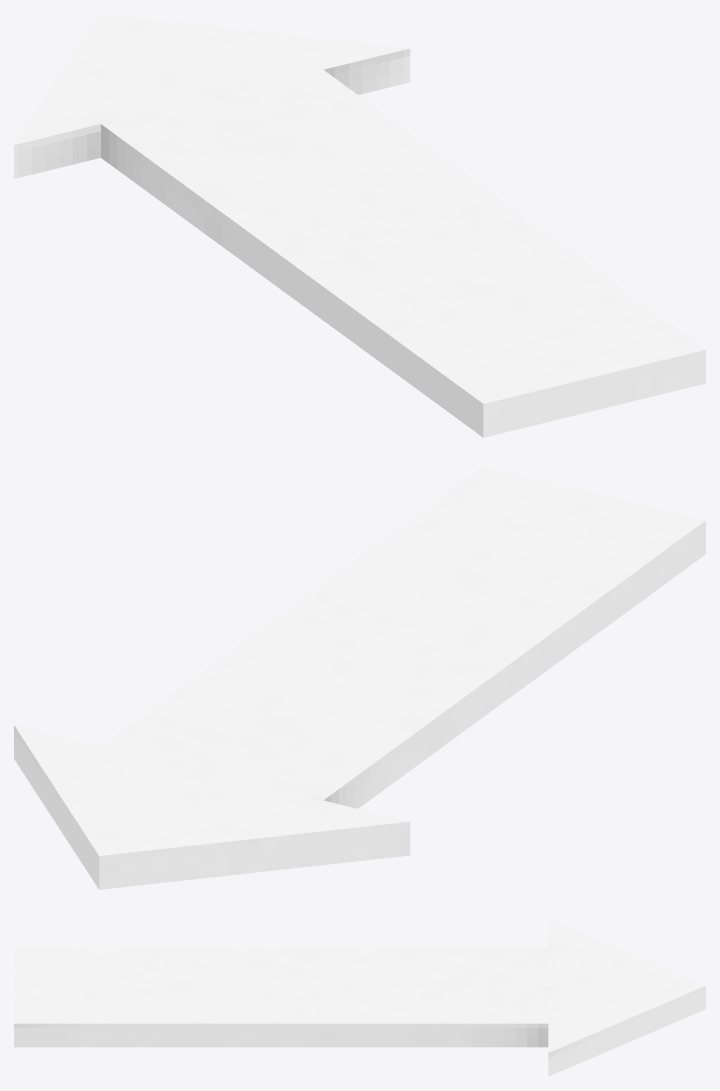
File: ArrowBig.glb
3 renders of one model, top to bottom at view 1: azimuth 30°, elevation 25°; view 2: azimuth 150°, elevation 25°; view 3: azimuth 270°, elevation 25°, orthographic. The views are drawn at different scales.
Parts seen in each view (by area): view 1: ArrowBig; view 2: ArrowBig; view 3: ArrowBig.
Boxes of the visible parts, x1,y1,x2,y2 form: ArrowBig: (14,14,705,437); ArrowBig: (14,466,705,889); ArrowBig: (14,918,705,1076).
Bounding box in the file's own units: 0.1636 × 0.0134 × 0.3544.
1 material, 1 textured.
